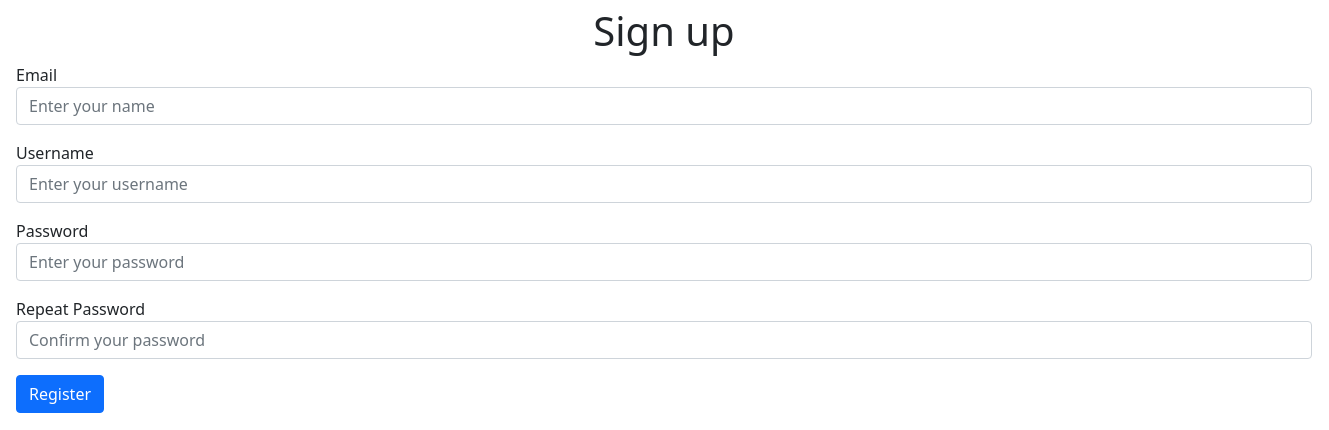
Scenario: Test UserSignupPage › When registering new user › does not throw exception when actions is not provided
Type "user1@test.com" into the field with test id "nameInput" at [664, 106], box [16, 87, 1312, 125]
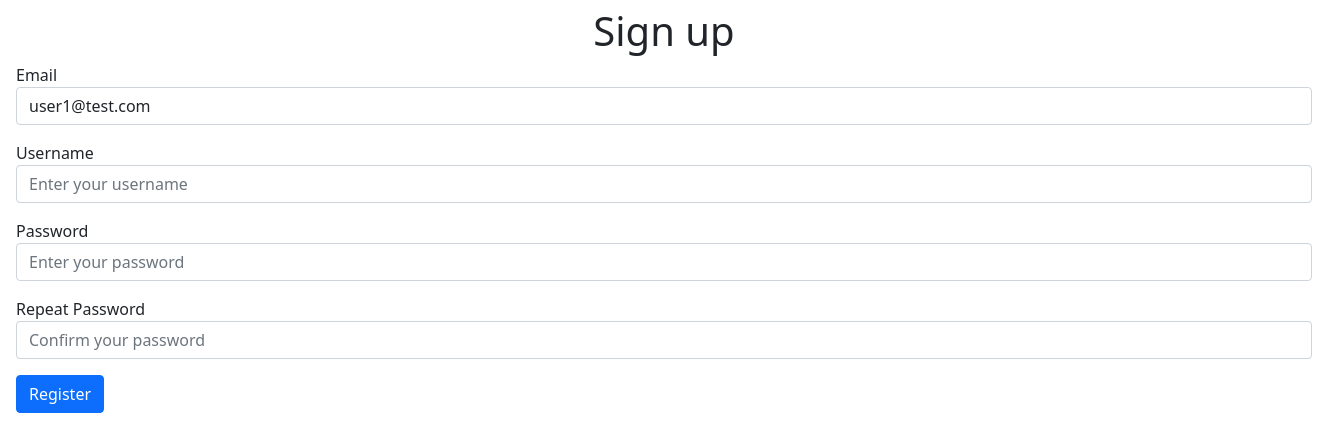
Type "user1" into the field with test id "usernameInput" at [664, 184], box [16, 165, 1312, 203]
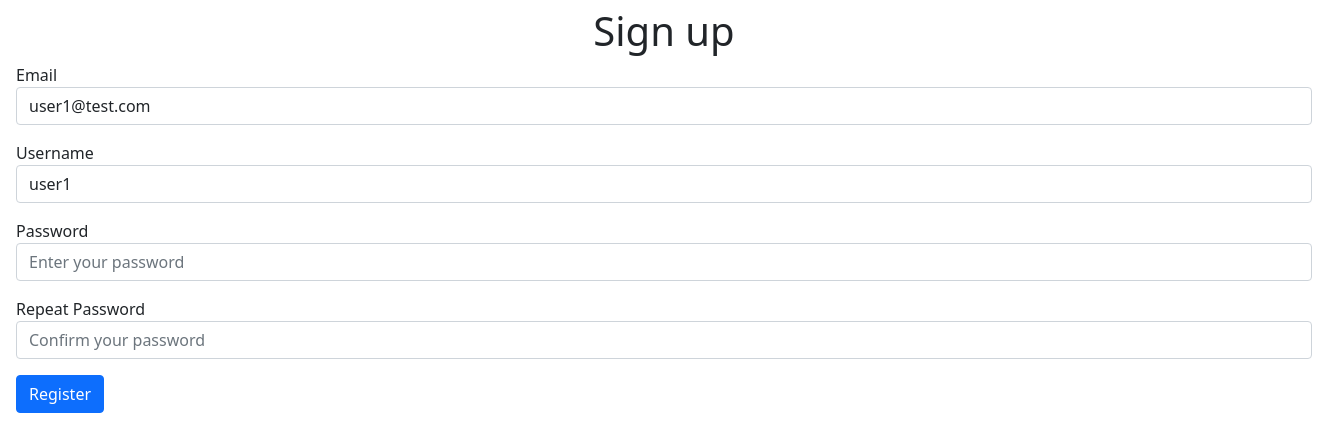
Type "P4ssword" into the password field with test id "passwordInput" at [664, 262], box [16, 243, 1312, 281]
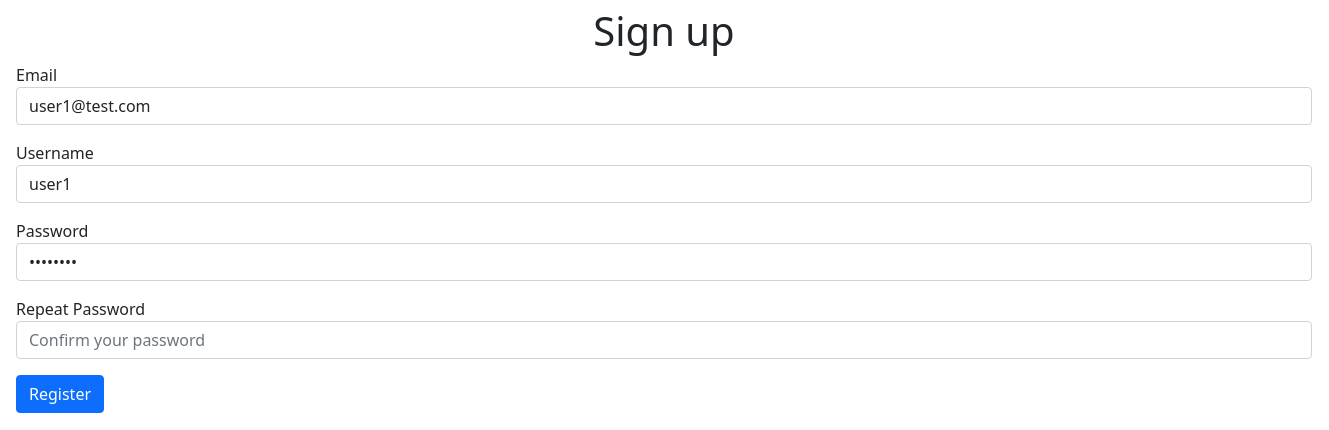
Type "P4ssword" into the password field with test id "confirmPasswordInput" at [664, 340], box [16, 321, 1312, 359]
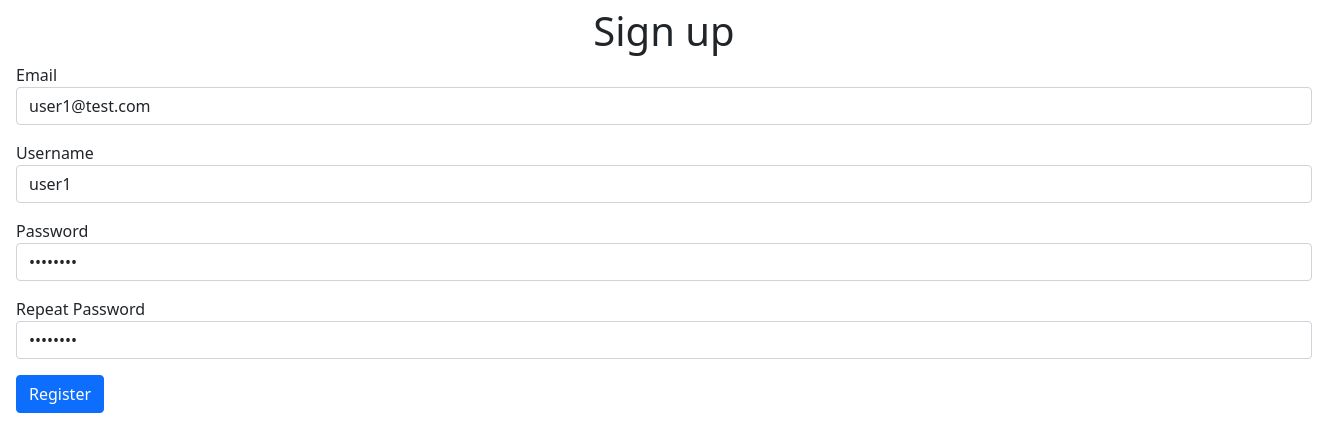
Click the button with test id "registerButton" at [60, 394], box [16, 375, 104, 413]
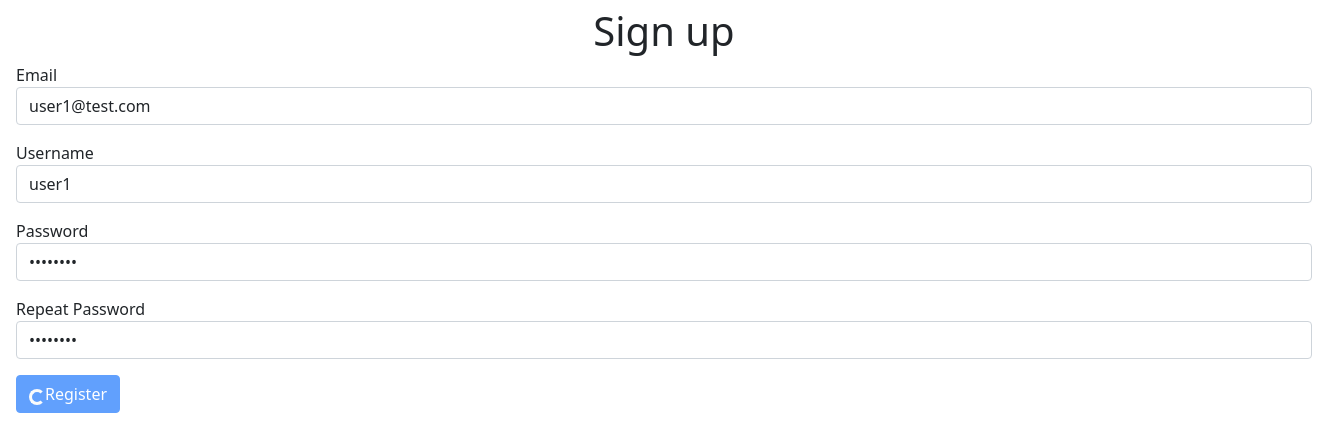
Click the button with test id "registerButton" at [68, 394], box [16, 375, 120, 413]
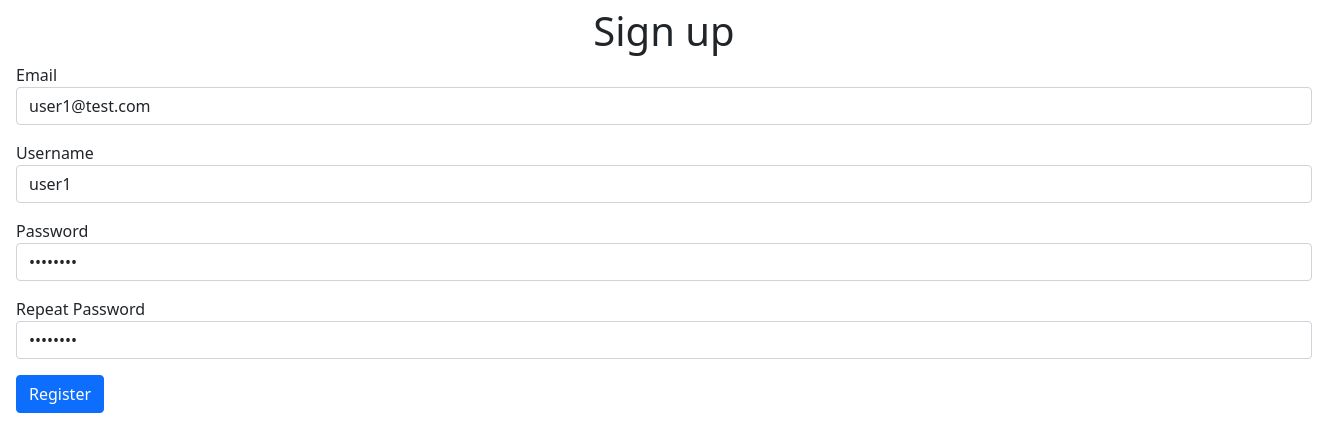
Expected: the element with test id "loading" is gone
